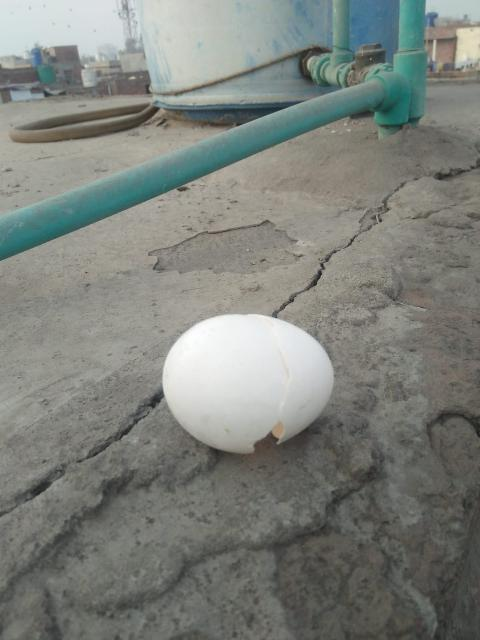Roto: (161, 312, 335, 455)
